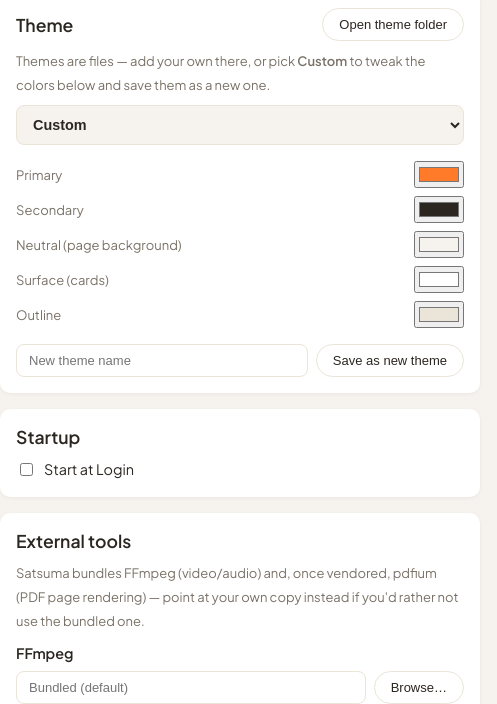
Scenario: SettingsScreen › shows an error if saving the theme fails
The width and height of the screenshot is (497, 704).
(page scrolled)
Type "Broken" into the field with test id "new-theme-name" at {"x": 162, "y": 360}, box [16,344,308,377]
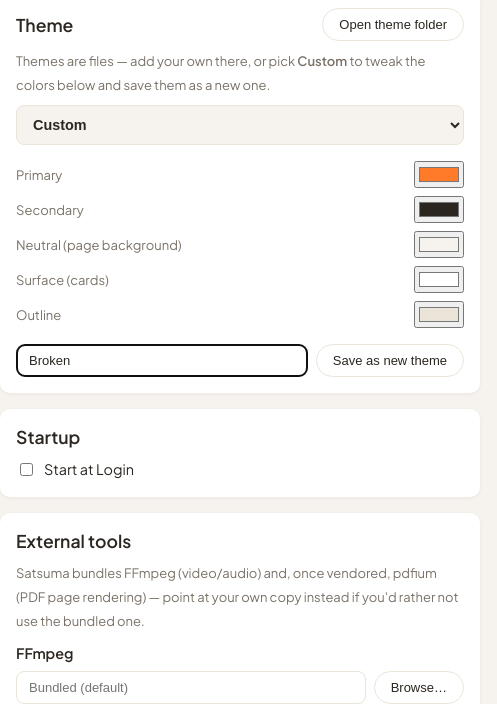
Click the button with test id "save-theme" at {"x": 390, "y": 360}, box [316,344,464,377]
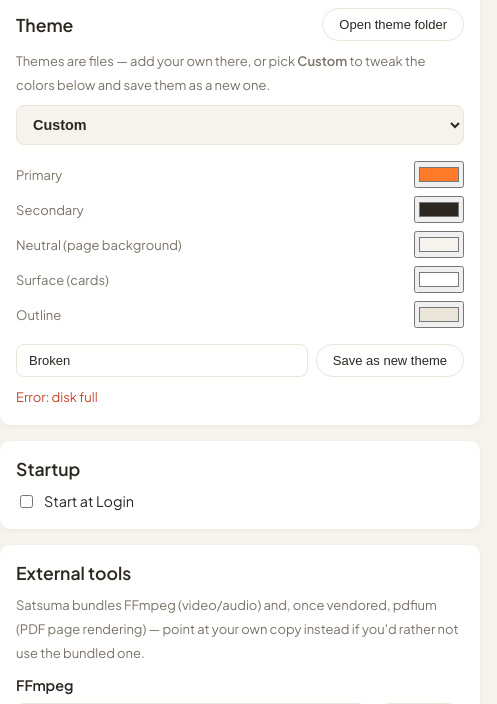
Result: the text with test id "save-theme-error" shows "disk full" at [16,389,98,405]
